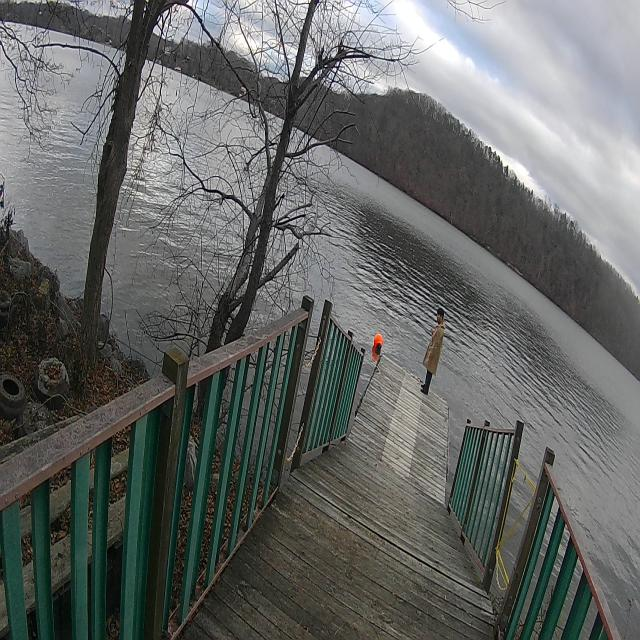Buoy: (373, 330, 384, 354)
